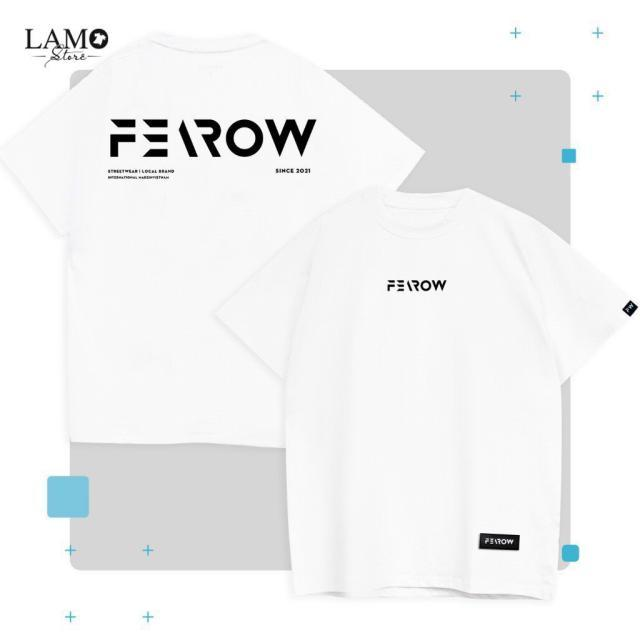Shirt: (216, 186, 640, 599), (9, 38, 426, 448)
